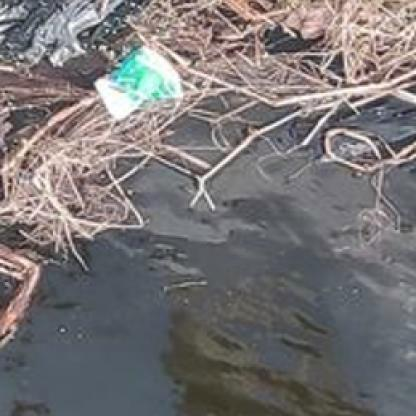Trash: (95, 47, 182, 119)
